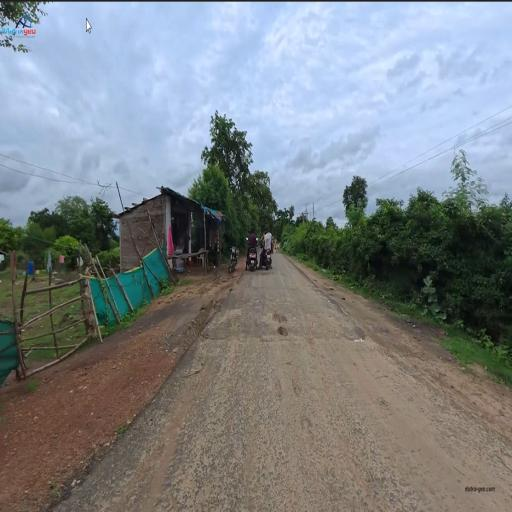longitudinal_crack: (207, 328, 353, 357)
